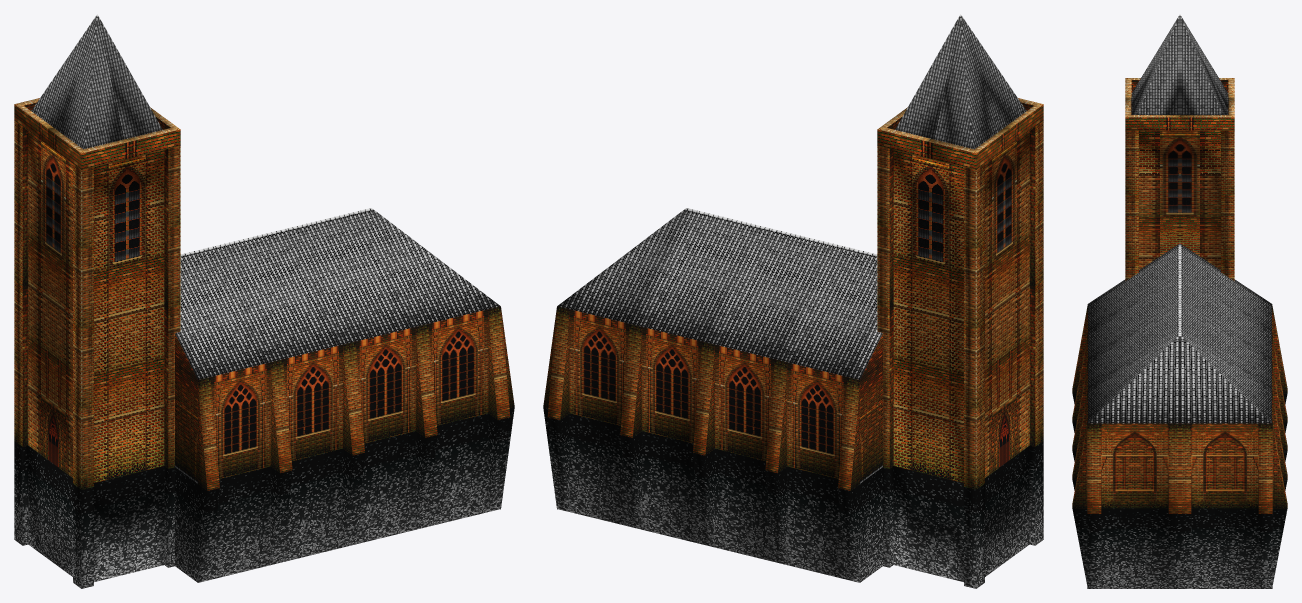
Rendered from kerk_mod1_1a.fbx.
The picture shows the model from 3 angles, left to right: view 1: azimuth 30°, elevation 25°; view 2: azimuth 150°, elevation 25°; view 3: azimuth 270°, elevation 25°; orthographic projection. The views are drawn at different scales.
Visible parts, largest first — view 1: kerk_mod1_1a; view 2: kerk_mod1_1a; view 3: kerk_mod1_1a.
Part boxes in pixels (box(x1,y1,x2,y2)): kerk_mod1_1a: box(14, 14, 514, 588); kerk_mod1_1a: box(543, 14, 1043, 588); kerk_mod1_1a: box(1072, 14, 1287, 588).
Bounding box in the file's own units: 3608 × 4530 × 2019.
